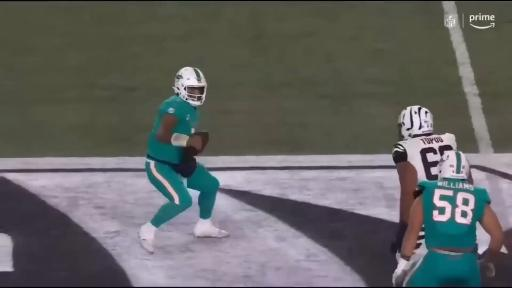Helmet: (174, 67, 206, 106), (398, 106, 433, 139), (438, 151, 469, 179)
Jersey: (419, 179, 490, 250), (147, 95, 199, 163), (392, 134, 456, 182)
Player: (139, 67, 228, 253), (393, 151, 503, 286), (392, 106, 456, 257)
